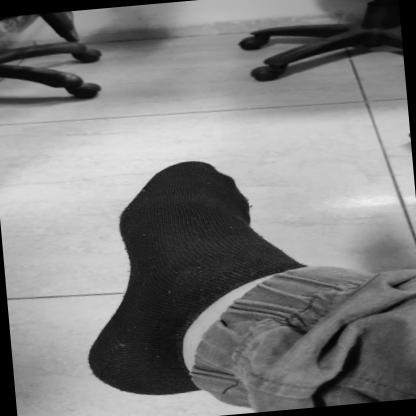ankle: (192, 314, 196, 316)
heel: (160, 392, 164, 394)
left_foot: (73, 153, 312, 403)
pinky: (246, 210, 250, 213)
toe: (185, 164, 190, 166)
